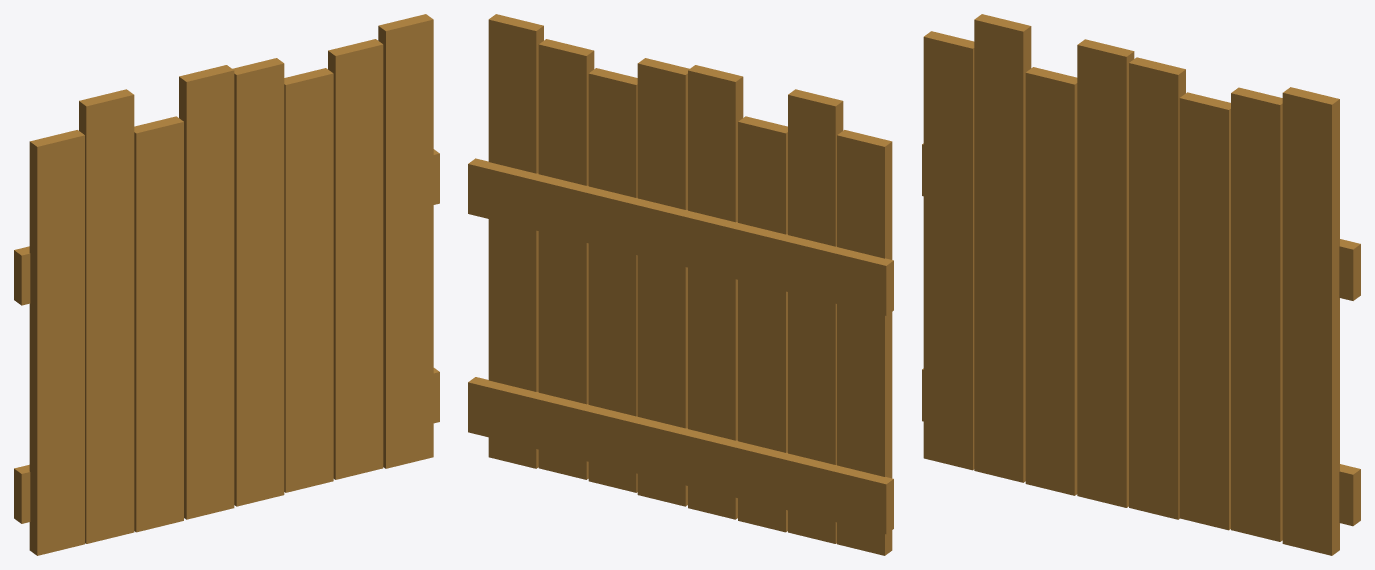
File: Fence.fbx
3 views of the same model, side by side, from view 1: azimuth 30°, elevation 25°; view 2: azimuth 150°, elevation 25°; view 3: azimuth 330°, elevation 25° (orthographic). The views are drawn at different scales.
Parts seen in each view (by area): view 1: Fence; view 2: Fence; view 3: Fence.
Part boxes in pixels (left/top/right/bottom): Fence: left=14, top=14, right=439, bottom=555; Fence: left=468, top=14, right=893, bottom=555; Fence: left=922, top=14, right=1360, bottom=555.
Bounding box in the file's own units: 3407 × 3428 × 207.
